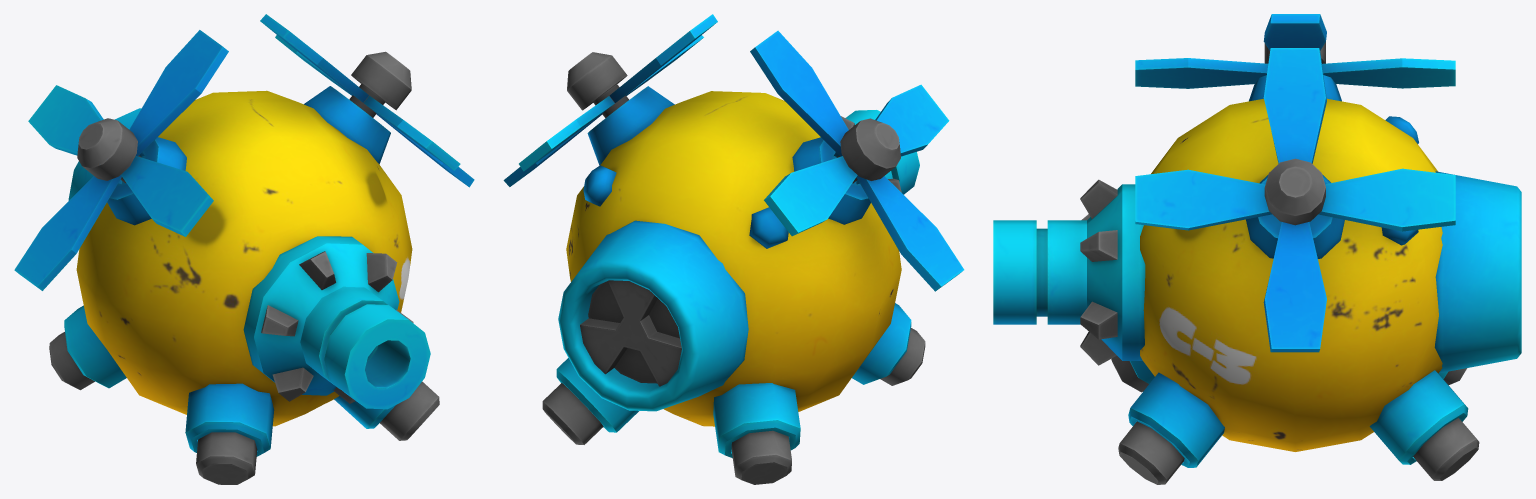
File: swarm_lp.fbx
The picture shows the model from 3 angles, left to right: view 1: azimuth 30°, elevation 25°; view 2: azimuth 150°, elevation 25°; view 3: azimuth 270°, elevation 25°; orthographic projection. The views are drawn at different scales.
Parts seen in each view (by area): view 1: swarm_body, swarm_weapon, swarm_propeller_right, swarm_propeller_left; view 2: swarm_body, swarm_propeller_right, swarm_propeller_left, swarm_propeller_rear, swarm_weapon; view 3: swarm_body, swarm_propeller_left, swarm_weapon, swarm_propeller_right.
Part boxes in pixels (x1,y1,x2,y2): swarm_body: [49, 86, 439, 484]; swarm_weapon: [243, 236, 430, 409]; swarm_propeller_right: [14, 30, 228, 290]; swarm_propeller_left: [260, 14, 474, 187]; swarm_body: [542, 86, 925, 484]; swarm_propeller_right: [750, 30, 964, 291]; swarm_propeller_left: [503, 14, 717, 186]; swarm_propeller_rear: [580, 280, 681, 386]; swarm_weapon: [841, 110, 919, 194]; swarm_body: [1111, 75, 1521, 484]; swarm_propeller_left: [1135, 48, 1455, 352]; swarm_weapon: [993, 179, 1145, 365]; swarm_propeller_right: [1135, 14, 1455, 88].
Bounding box in the file's own units: 173 × 146 × 172.
Materials: 1 (1 with a texture image).
